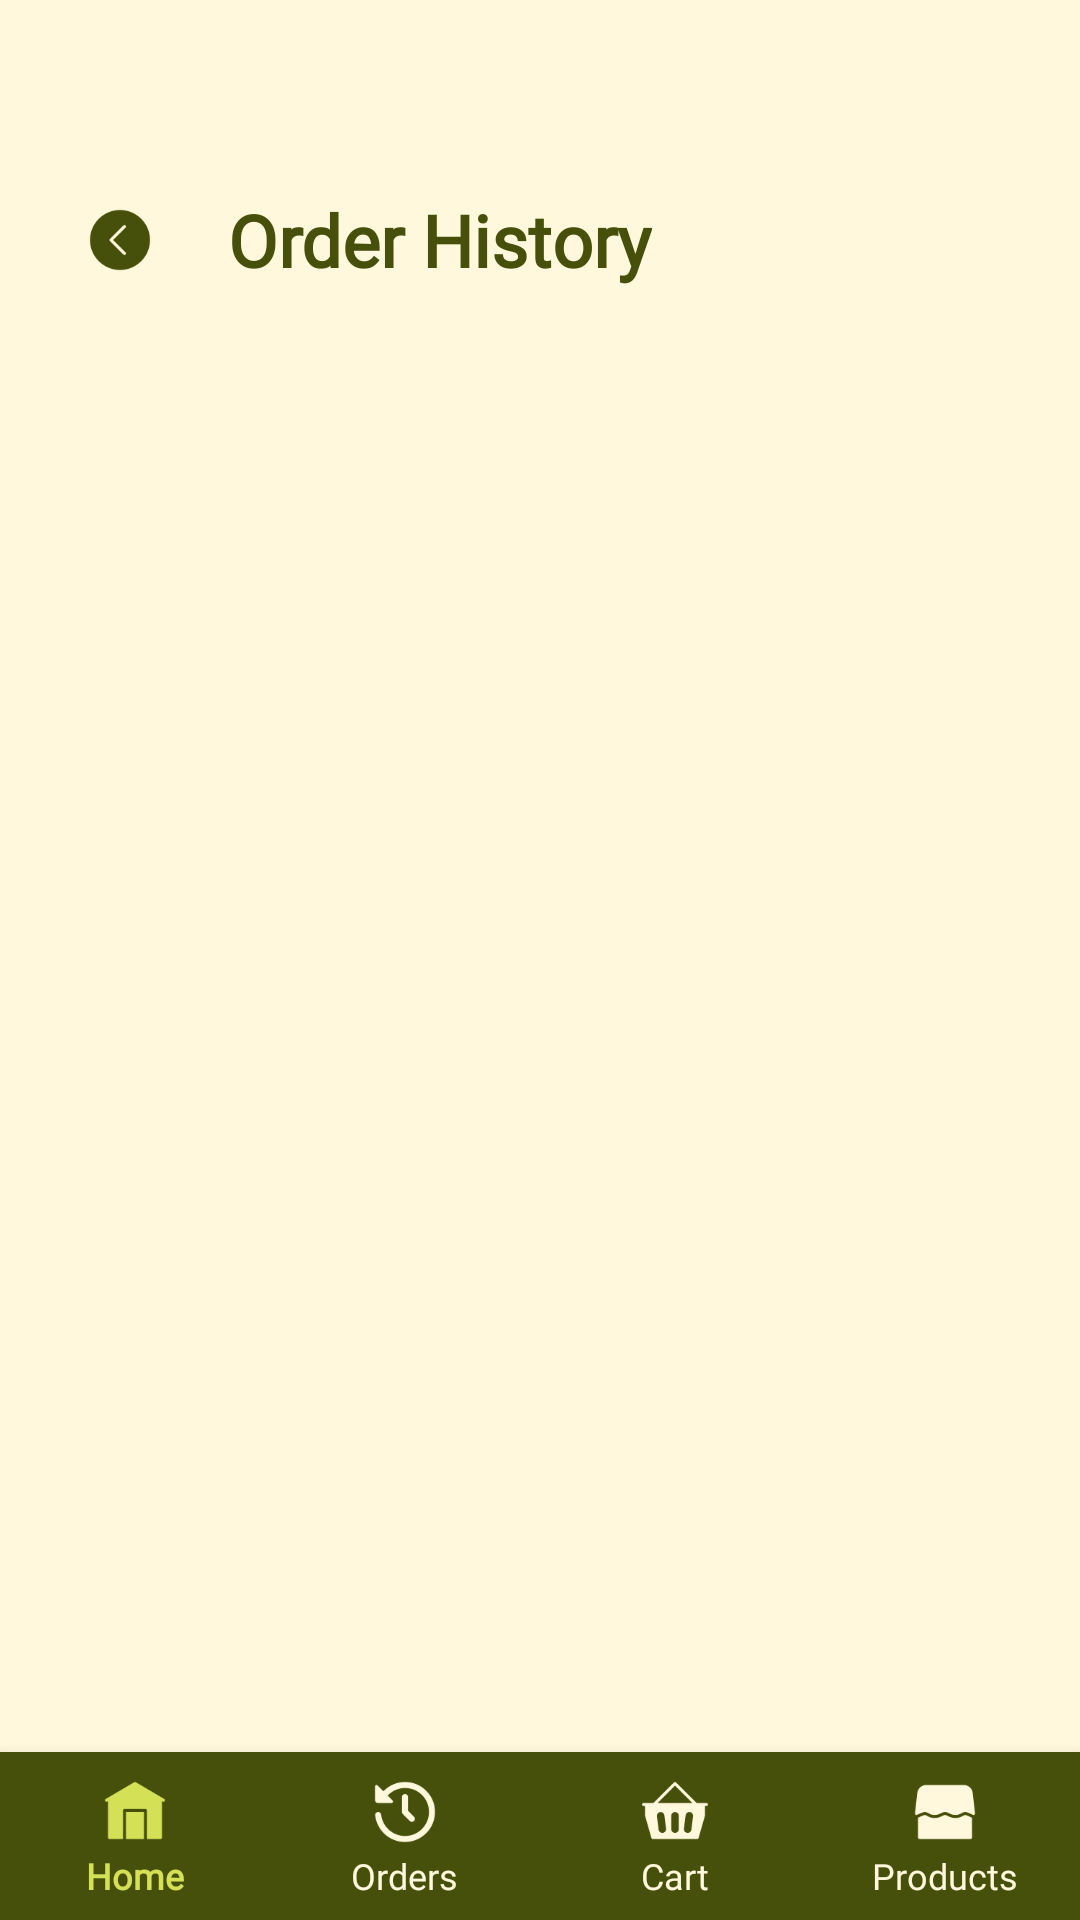

Icon bounding boxes for this 1080×1920 phone screenshot, format (x1, y1, x2, y2):
Back: (90, 210, 150, 270)
